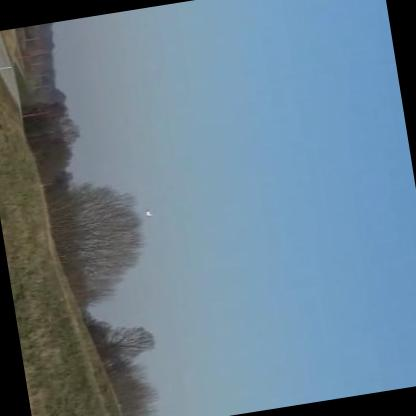plane: (139, 205, 157, 220)
